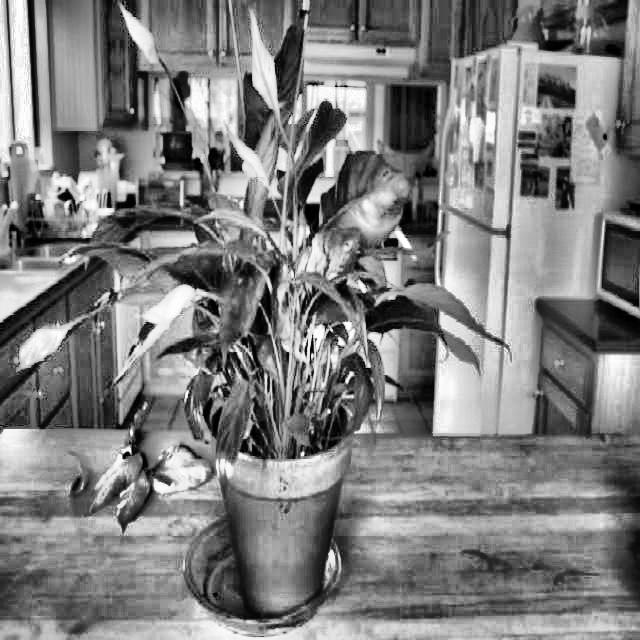plants: (116, 1, 516, 609), (88, 441, 211, 536), (328, 151, 412, 251)
